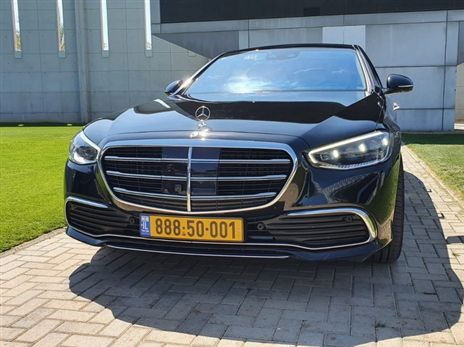licence: (138, 212, 246, 245)
